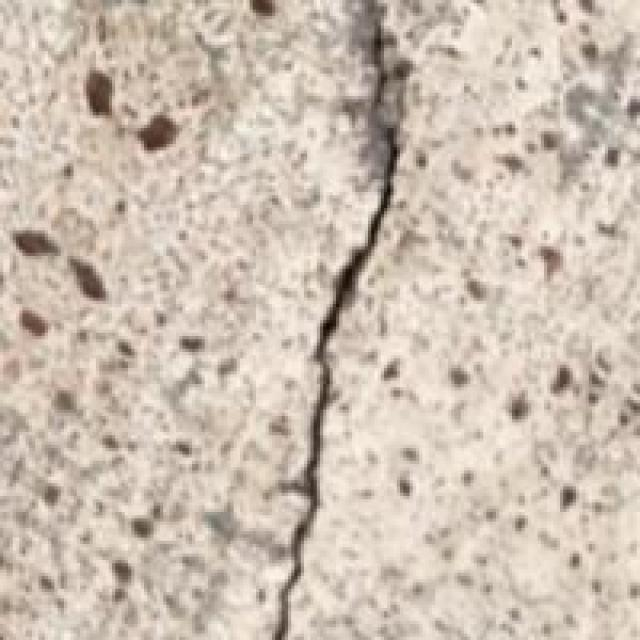Crack: (198, 3, 461, 637)
